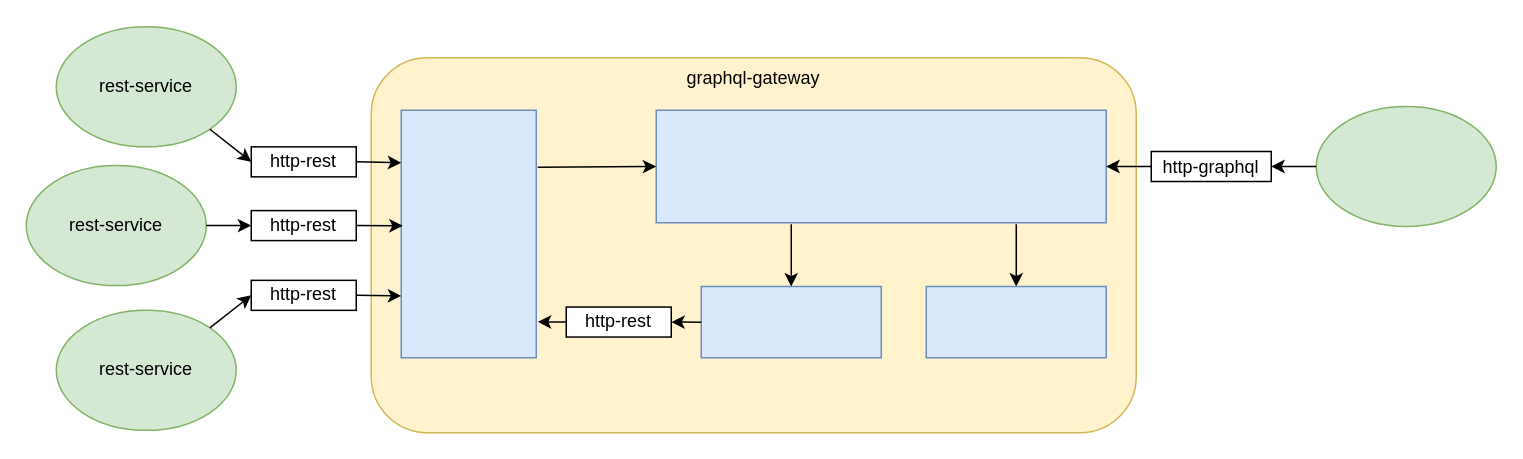
The diagram is 1523 pixels wide and 459 high, and some of its shapes have lost their labels. Each missing label, with the centre of its shape:
front-end: point (1405, 165)
graphql-registry: point (468, 233)
graphql-resolver: point (790, 321)
graphql-schema: point (1015, 321)
graphql-server: point (880, 166)
